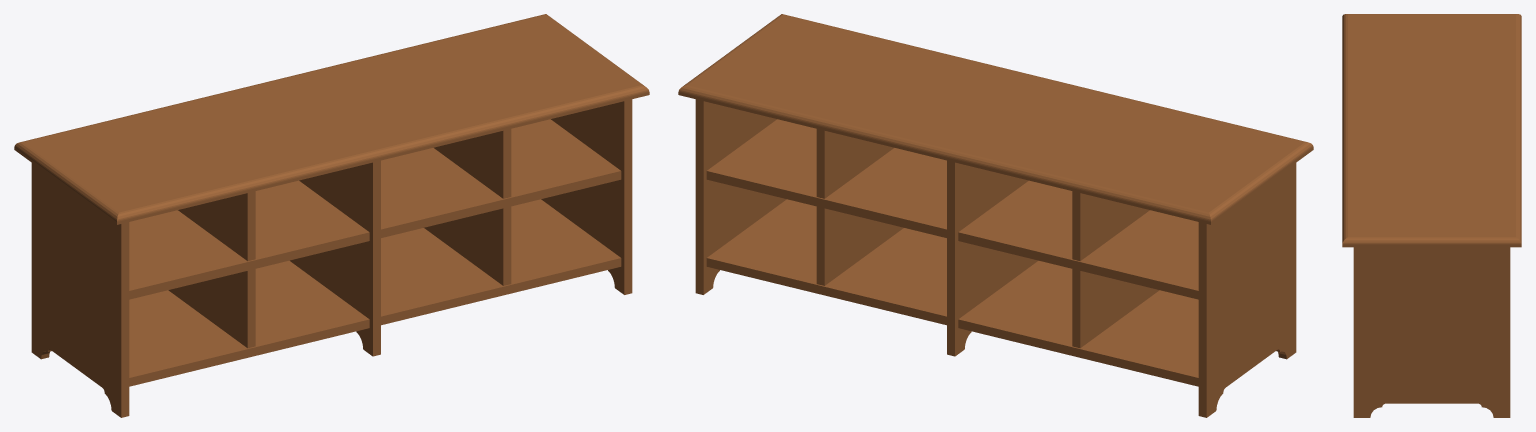
Rendered from tv_stand.glb.
3 renders of one model, left to right at view 1: azimuth 30°, elevation 25°; view 2: azimuth 150°, elevation 25°; view 3: azimuth 270°, elevation 25°, orthographic. The views are drawn at different scales.
Visible parts, largest first — view 1: Node; view 2: Node; view 3: Node.
Part boxes in pixels (x1,y1,x2,y2): Node: [14, 14, 649, 417]; Node: [678, 14, 1313, 417]; Node: [1342, 14, 1521, 417].
Bounding box in the file's own units: 1.2 × 0.45 × 0.4.
